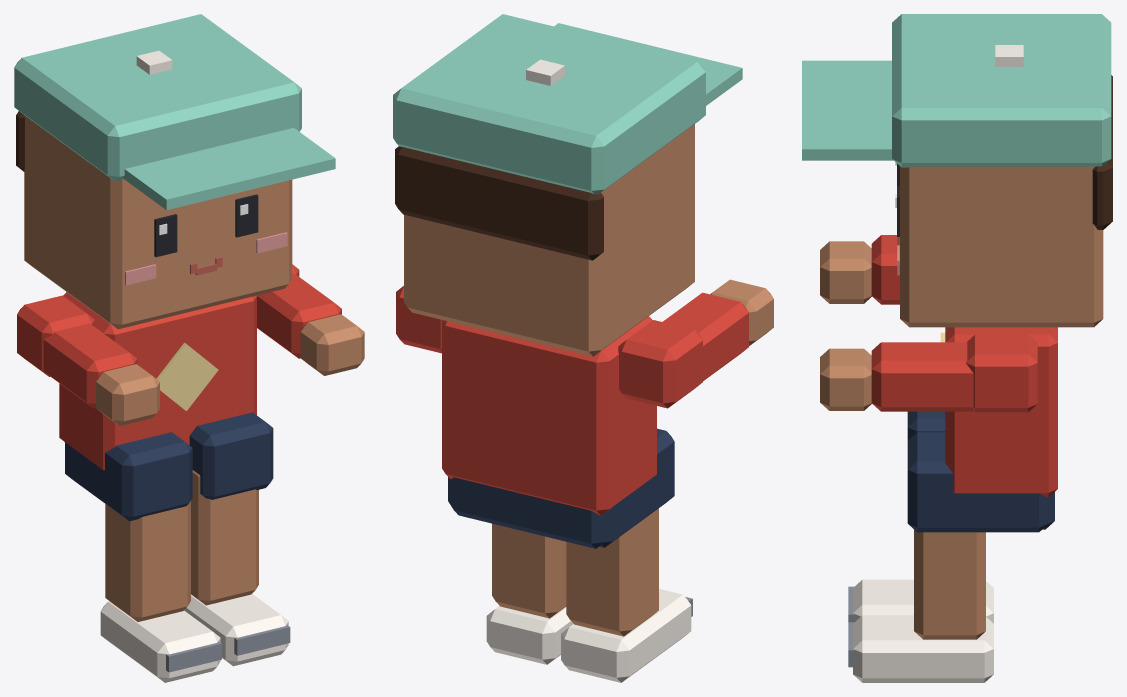
Rendered from CatCafe_NPC_Customer_B_Sit.glb.
The picture shows the model from 3 angles, left to right: view 1: azimuth 30°, elevation 25°; view 2: azimuth 150°, elevation 25°; view 3: azimuth 270°, elevation 25°; orthographic projection. The views are drawn at different scales.
Parts seen in each view (by area): view 1: CatCafe_NPC_Customer_B_Sit; view 2: CatCafe_NPC_Customer_B_Sit; view 3: CatCafe_NPC_Customer_B_Sit.
Boxes of the visible parts, x1=… form: CatCafe_NPC_Customer_B_Sit: x1=14, y1=14, x2=364, y2=682; CatCafe_NPC_Customer_B_Sit: x1=393, y1=14, x2=773, y2=682; CatCafe_NPC_Customer_B_Sit: x1=802, y1=14, x2=1112, y2=682.
Size of the model in its own units: 2.04 by 4.24 by 1.98.
Materials: 1 (1 with a texture image).
